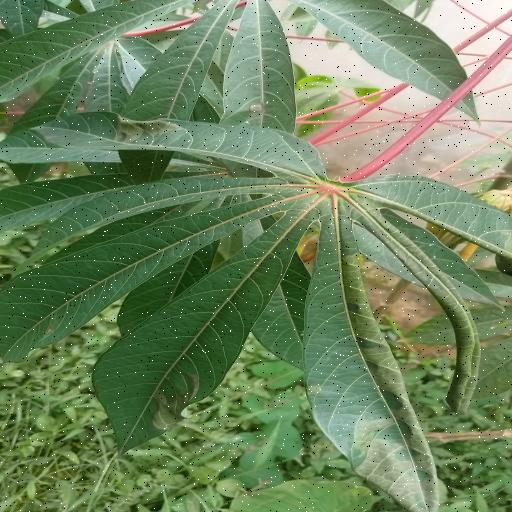Cassava_Root_Rot: (9, 112, 512, 512)
